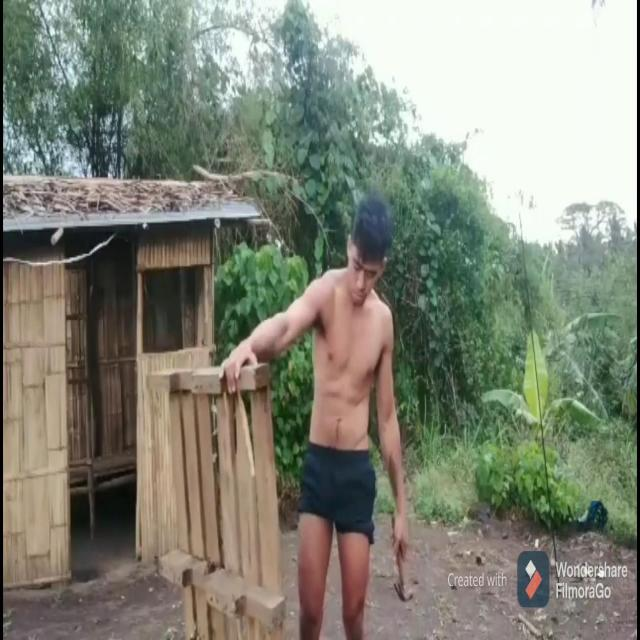hammer: (392, 512, 413, 603)
